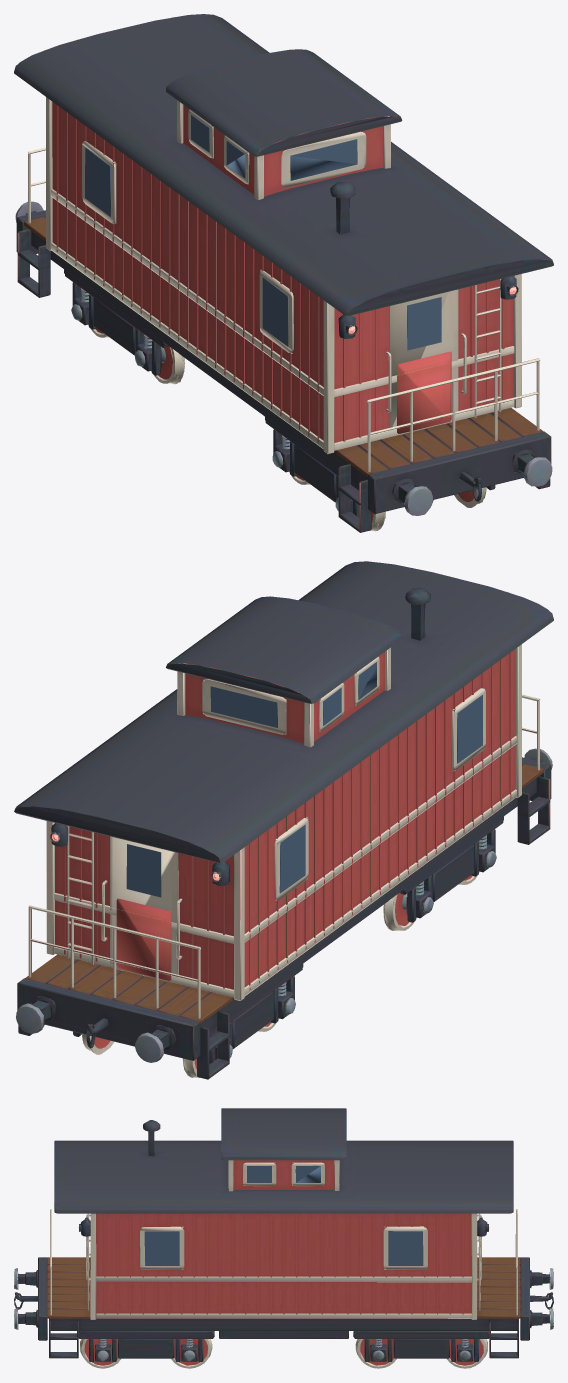
The model's file is furgon_cola.glb.
3 views of the same model, one above another, from view 1: azimuth 30°, elevation 25°; view 2: azimuth 150°, elevation 25°; view 3: azimuth 270°, elevation 25° (orthographic). The views are drawn at different scales.
Visible parts, largest first — view 1: caboose_body; view 2: caboose_body; view 3: caboose_body.
Part boxes in pixels (x1=…): caboose_body: x1=14, y1=14, x2=553, y2=532; caboose_body: x1=14, y1=561, x2=553, y2=1079; caboose_body: x1=14, y1=1108, x2=553, y2=1368.
Size of the model in its own units: 3.08 by 4.57 by 9.99.
3 materials, 1 textured.
